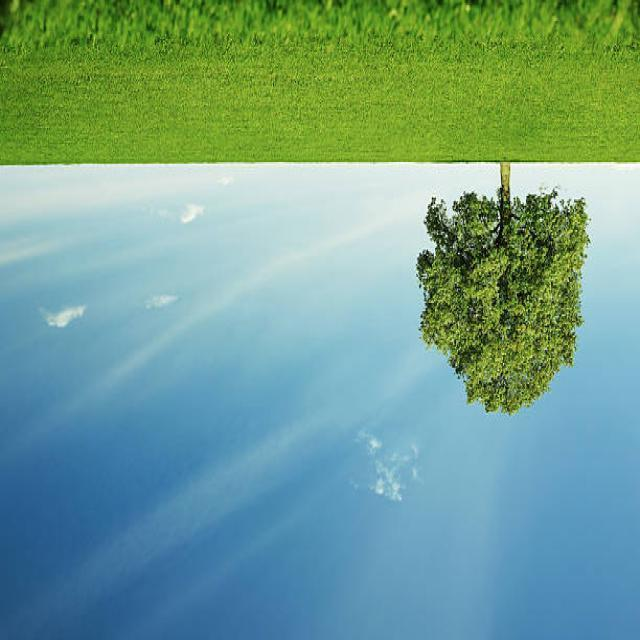tree: (410, 169, 594, 427)
